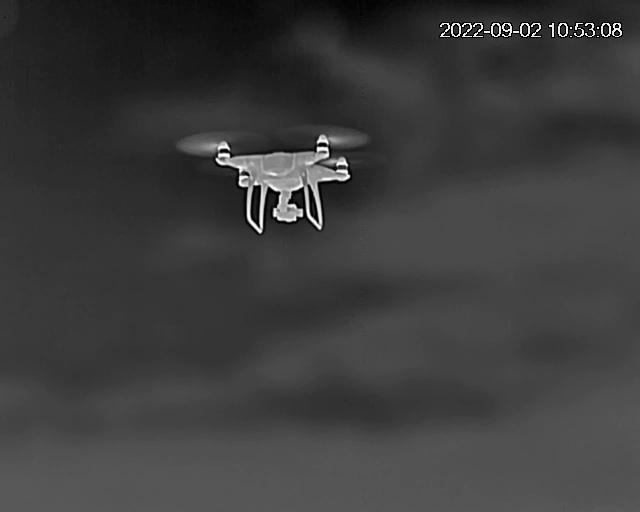DJI-Phantom: (180, 123, 370, 233)
